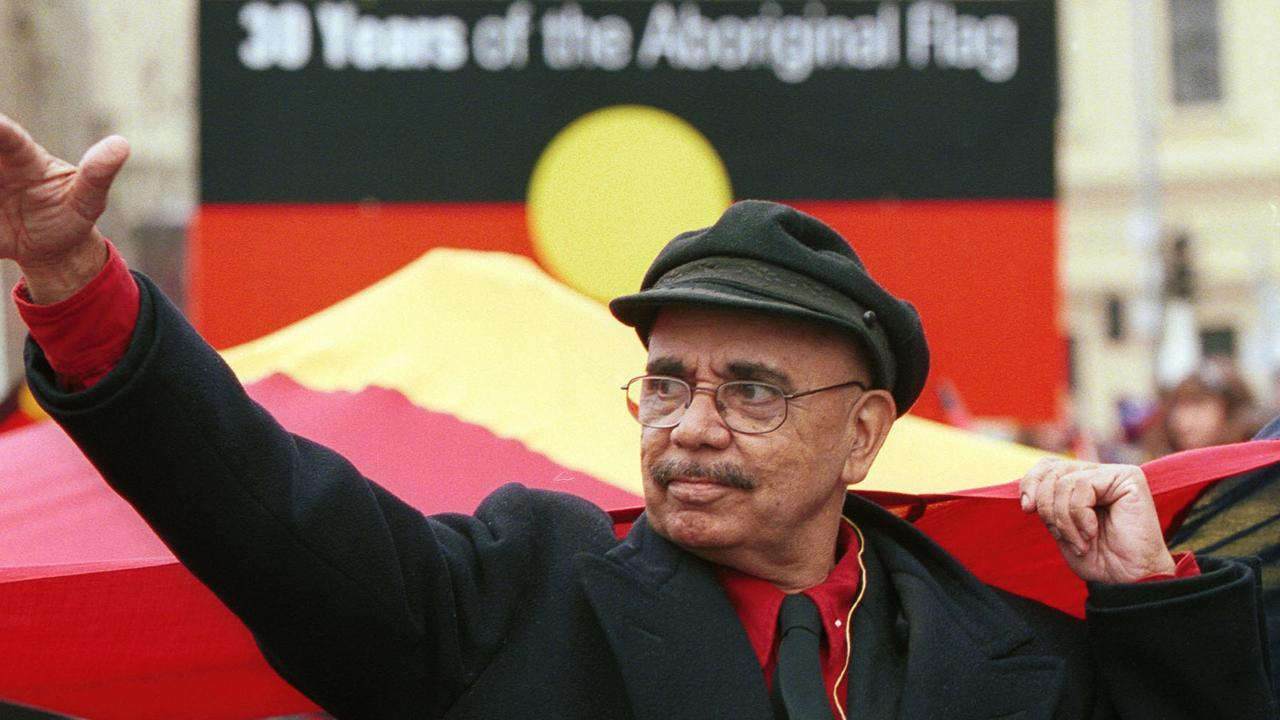aboriginal_flag: (187, 4, 1078, 510)
